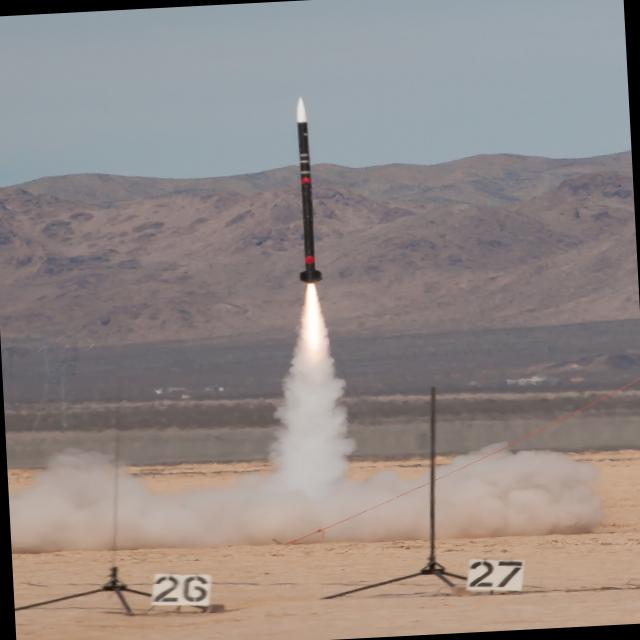rocket: (278, 94, 339, 375)
